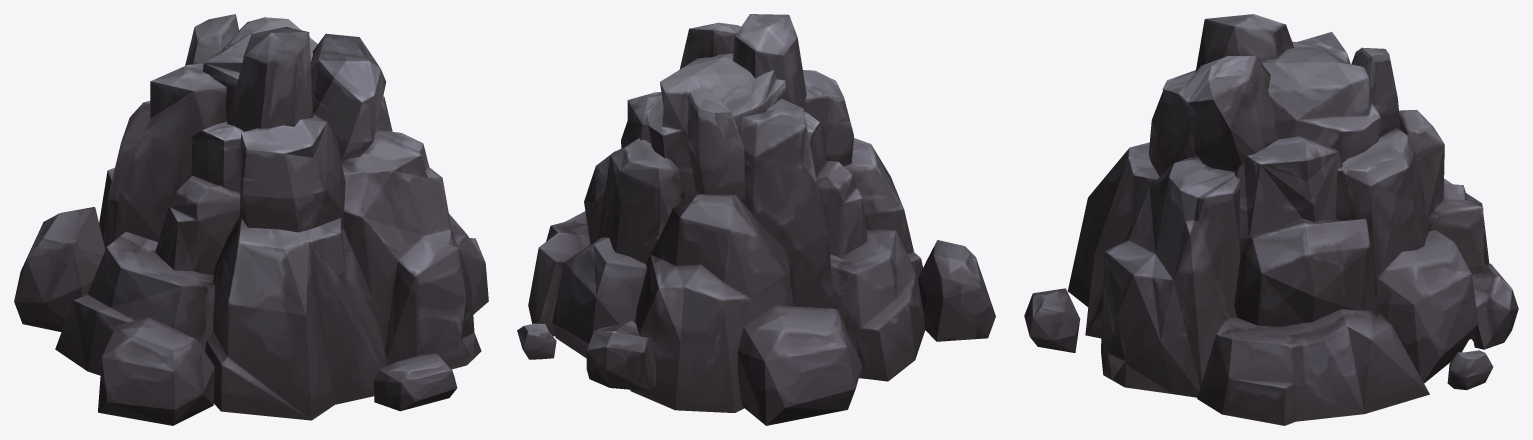
Rendered from GraniteMine.FBX.
The picture shows the model from 3 angles, left to right: view 1: azimuth 30°, elevation 25°; view 2: azimuth 150°, elevation 25°; view 3: azimuth 270°, elevation 25°; orthographic projection. The views are drawn at different scales.
Parts seen in each view (by area): view 1: Object030; view 2: Object030; view 3: Object030.
Boxes of the visible parts, <box> form: Object030: <box>14,14,488,425</box>; Object030: <box>517,14,995,425</box>; Object030: <box>1024,14,1518,425</box>.
Size of the model in its own units: 1.69 by 1.19 by 1.69.
1 material, 1 textured.
